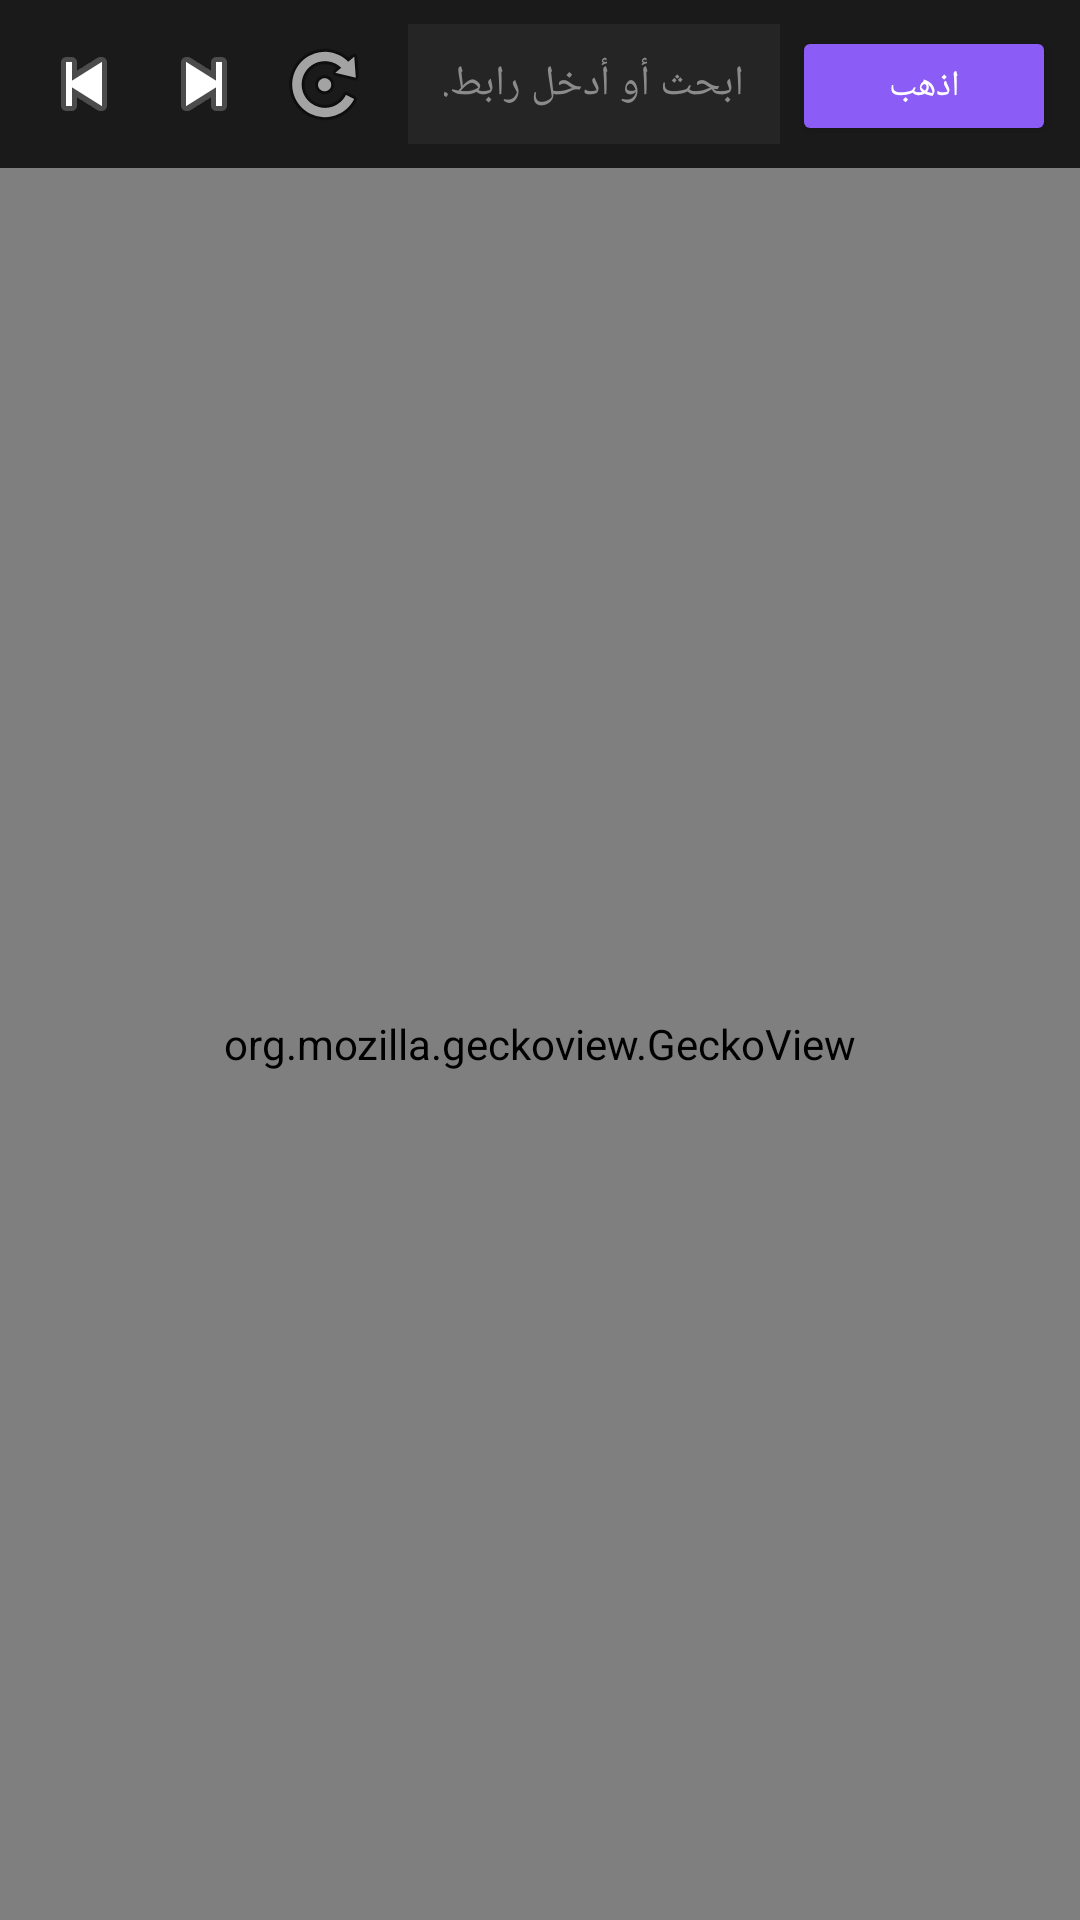

Icon click points for this 1080px x 1920px phone screenshot, format (x,y):
تحديث: (324,84)
تقدم: (204,84)
رجوع: (84,84)
